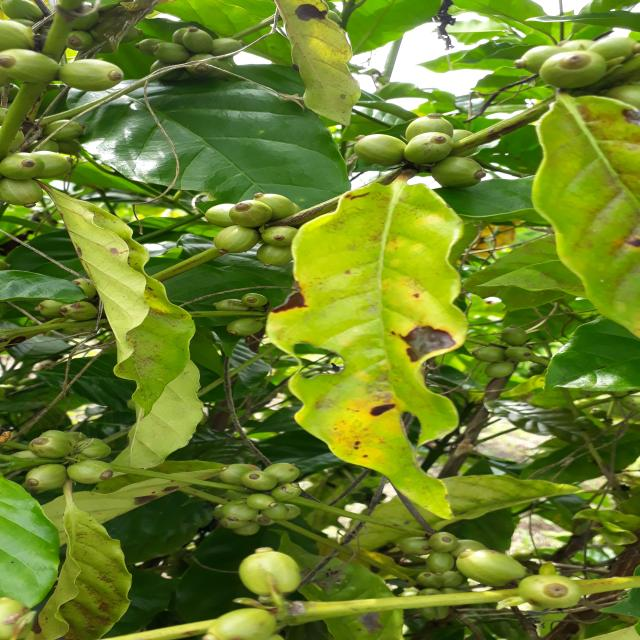Enfermedad-Roya: (259, 181, 468, 521)
